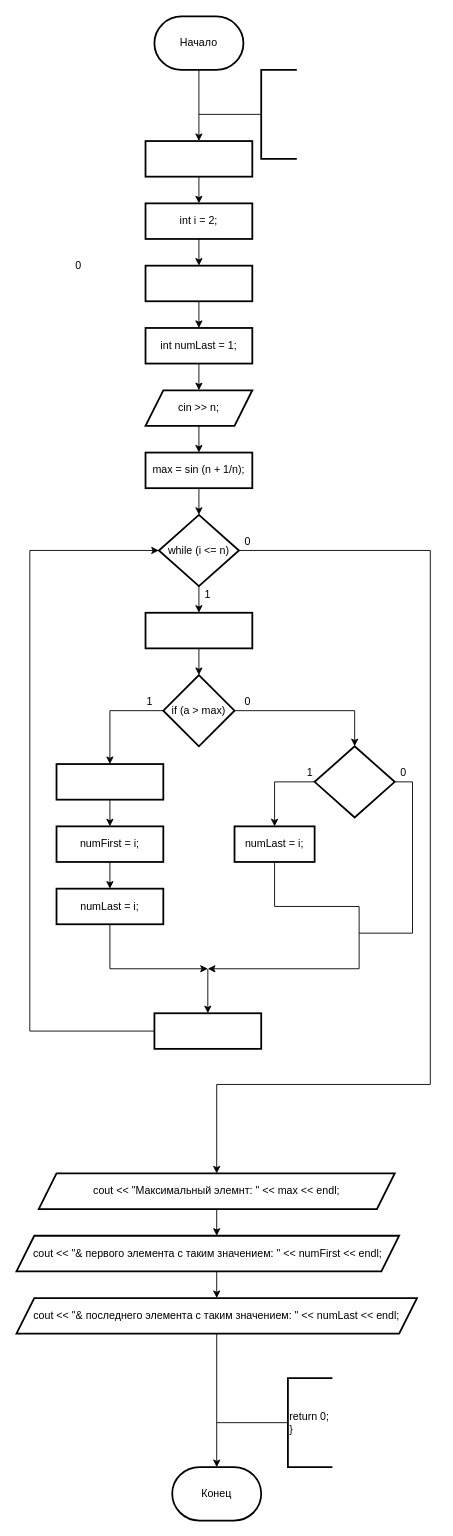
Some shapes in this 453 by 1536 pixel diagram are drawn without their labels. Here are the shapes that lost their labels. From the top down, the centre of each, then its label:
At (x=278, y=114): "#include <iostream> #include <cmath> using namespace std; int main(){".
At (x=198, y=158): "float n, a, max;".
At (x=198, y=283): "int numFirst = 1;".
At (x=198, y=630): "a = sin(n + i/n);".
At (x=109, y=781): "max = a;".
At (x=354, y=781): "if (a == max)".
At (x=207, y=1030): "i++".
